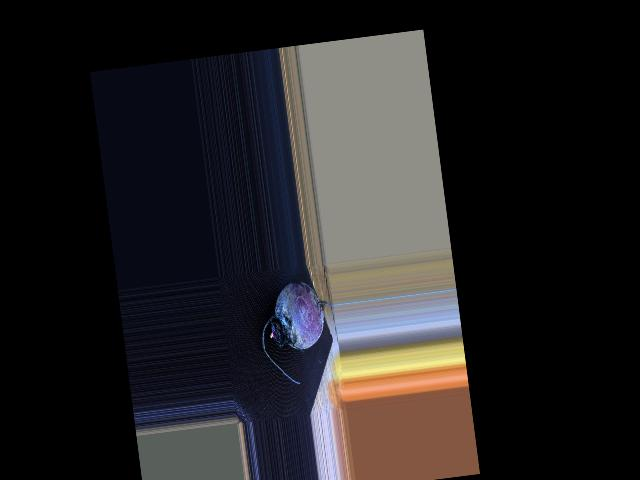beet: (254, 276, 343, 388)
